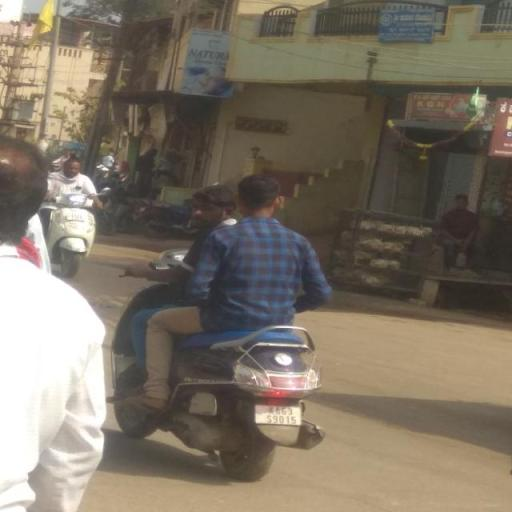bike: (106, 170, 332, 484)
numberplate: (256, 404, 302, 426)
withouthelmet: (238, 175, 280, 219), (195, 189, 234, 225)
